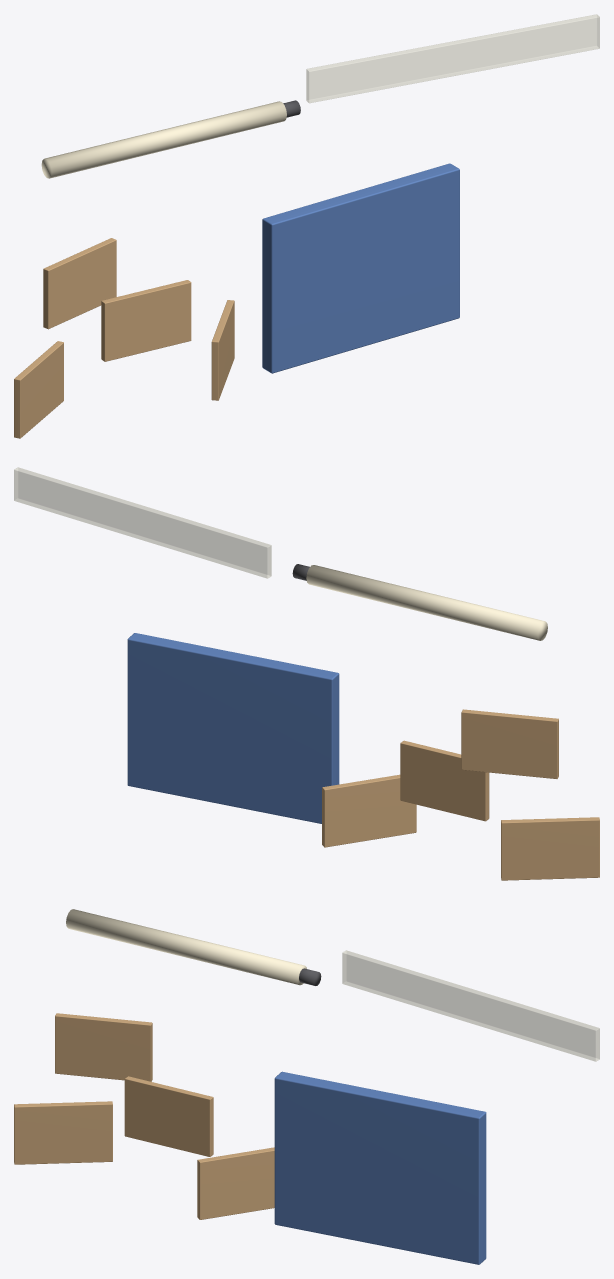
Rendered from workshop_props.glb.
The picture shows the model from 3 angles, top to bottom: view 1: azimuth 30°, elevation 25°; view 2: azimuth 150°, elevation 25°; view 3: azimuth 330°, elevation 25°; orthographic projection.
Visible parts, largest first — view 1: RW3_Prop_Notebook, RW3_Prop_Ruler, RW3_Prop_CardboardScrap_1, RW3_Prop_Pencil_Body, RW3_Prop_CardboardScrap_2, RW3_Prop_CardboardScrap_3, RW3_Prop_CardboardScrap_4; view 2: RW3_Prop_Notebook, RW3_Prop_Ruler, RW3_Prop_CardboardScrap_3, RW3_Prop_CardboardScrap_2, RW3_Prop_CardboardScrap_4, RW3_Prop_CardboardScrap_1, RW3_Prop_Pencil_Body; view 3: RW3_Prop_Notebook, RW3_Prop_Ruler, RW3_Prop_CardboardScrap_3, RW3_Prop_CardboardScrap_2, RW3_Prop_CardboardScrap_1, RW3_Prop_Pencil_Body, RW3_Prop_CardboardScrap_4.
Part boxes in pixels (<box>): RW3_Prop_Notebook: <box>262,163,459,373</box>; RW3_Prop_Ruler: <box>306,14,599,103</box>; RW3_Prop_CardboardScrap_1: <box>101,280,191,361</box>; RW3_Prop_Pencil_Body: <box>41,101,286,178</box>; RW3_Prop_CardboardScrap_2: <box>43,238,116,329</box>; RW3_Prop_CardboardScrap_3: <box>14,341,63,438</box>; RW3_Prop_CardboardScrap_4: <box>211,300,234,400</box>; RW3_Prop_Notebook: <box>127,633,339,823</box>; RW3_Prop_Ruler: <box>14,467,271,578</box>; RW3_Prop_CardboardScrap_3: <box>501,817,599,880</box>; RW3_Prop_CardboardScrap_2: <box>461,709,558,778</box>; RW3_Prop_CardboardScrap_4: <box>322,774,416,847</box>; RW3_Prop_CardboardScrap_1: <box>400,740,489,821</box>; RW3_Prop_Pencil_Body: <box>306,565,547,640</box>; RW3_Prop_Notebook: <box>274,1071,486,1264</box>; RW3_Prop_Ruler: <box>342,950,599,1061</box>; RW3_Prop_CardboardScrap_3: <box>14,1101,112,1164</box>; RW3_Prop_CardboardScrap_2: <box>55,1013,152,1081</box>; RW3_Prop_CardboardScrap_1: <box>124,1076,213,1156</box>; RW3_Prop_Pencil_Body: <box>66,909,306,985</box>; RW3_Prop_CardboardScrap_4: <box>197,1147,274,1219</box>.
Size of the model in its own units: 2.31 by 1.05 by 0.2783.
